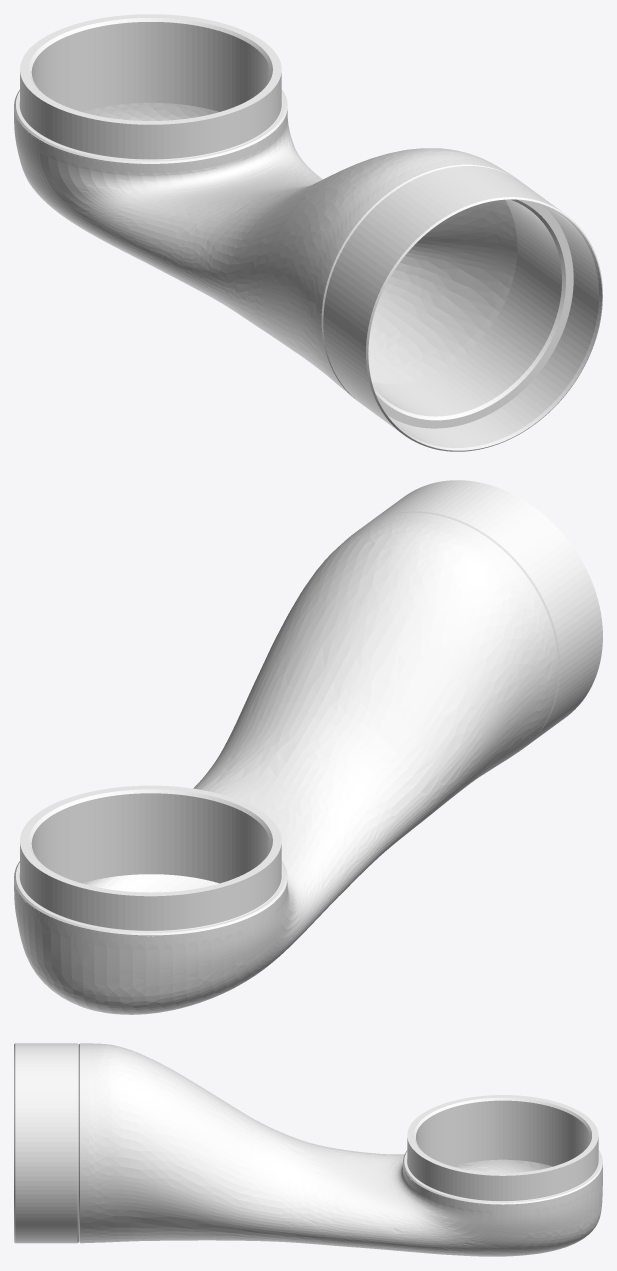
File: Kinova7dof_halfarm1.obj
The picture shows the model from 3 angles, top to bottom: view 1: azimuth 30°, elevation 25°; view 2: azimuth 150°, elevation 25°; view 3: azimuth 270°, elevation 25°; orthographic projection. The views are drawn at different scales.
Visible parts, largest first — view 1: Kinova7dof_halfarm1; view 2: Kinova7dof_halfarm1; view 3: Kinova7dof_halfarm1.
Boxes of the visible parts, bbox=[...] form: Kinova7dof_halfarm1: bbox=[14, 14, 602, 451]; Kinova7dof_halfarm1: bbox=[14, 480, 602, 1014]; Kinova7dof_halfarm1: bbox=[14, 1043, 602, 1256].
Bounding box in the file's own units: 0.092 × 0.095 × 0.2708.
1 material, 1 textured.
